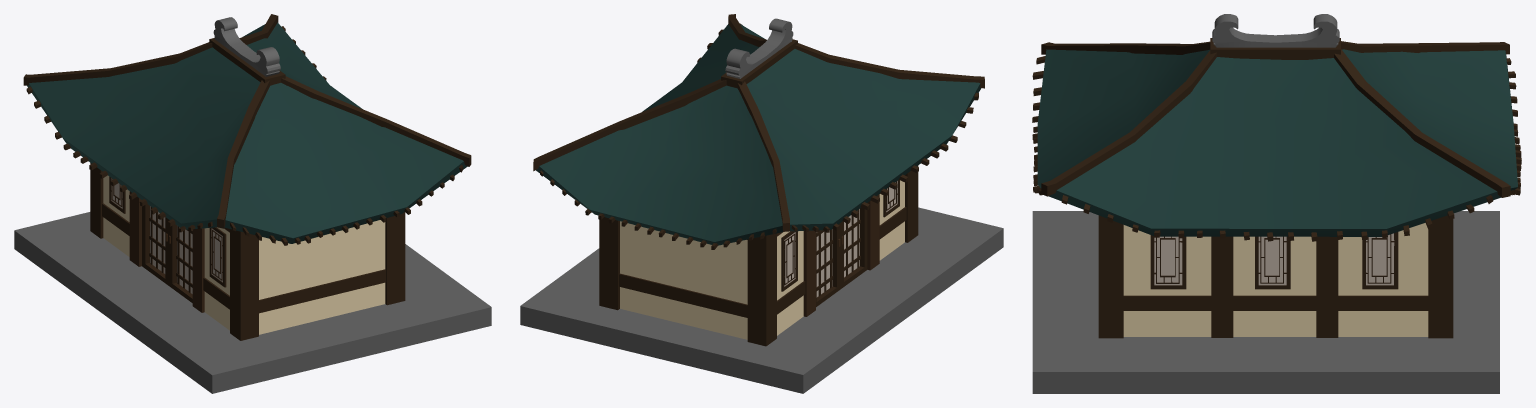
Rendered from houme016_2.fbx.
The picture shows the model from 3 angles, left to right: view 1: azimuth 30°, elevation 25°; view 2: azimuth 150°, elevation 25°; view 3: azimuth 270°, elevation 25°; orthographic projection. The views are drawn at different scales.
Parts seen in each view (by area): view 1: houme16_2, foundation_16_1_2, on_the_roof_16_1_2; view 2: houme16_2, foundation_16_1_2, on_the_roof_16_1_2; view 3: houme16_2, foundation_16_1_2, on_the_roof_16_1_2.
Boxes of the visible parts, x1=… form: houme16_2: x1=23, y1=14, x2=471, y2=340; foundation_16_1_2: x1=14, y1=212, x2=491, y2=393; on_the_roof_16_1_2: x1=213, y1=17, x2=280, y2=76; houme16_2: x1=533, y1=14, x2=984, y2=346; foundation_16_1_2: x1=520, y1=207, x2=1003, y2=393; on_the_roof_16_1_2: x1=725, y1=18, x2=793, y2=78; houme16_2: x1=1032, y1=38, x2=1521, y2=338; foundation_16_1_2: x1=1032, y1=211, x2=1499, y2=393; on_the_roof_16_1_2: x1=1212, y1=14, x2=1339, y2=47.
Size of the model in its own units: 1131 by 967 by 1455.
